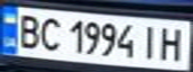1: (63, 16, 84, 54)
4: (115, 20, 139, 58)
9: (81, 18, 103, 56), (100, 20, 121, 57)
B: (12, 11, 45, 50)
C: (36, 15, 66, 52)
H: (157, 24, 190, 62)
I: (136, 22, 163, 61)
